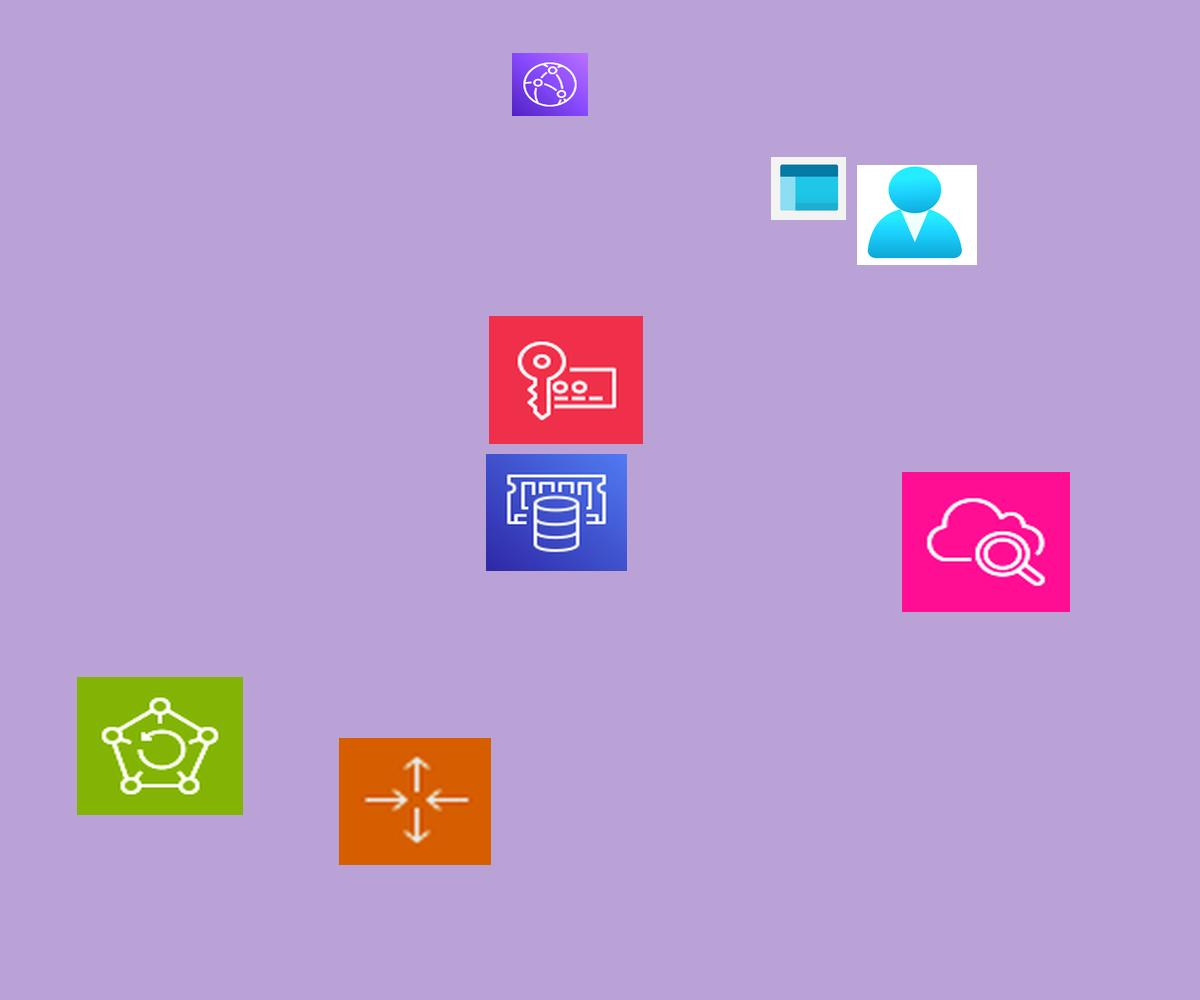AWS-Backup: (77, 677, 243, 815)
AWS-CloudFront: (512, 53, 588, 116)
AWS-CloudWatch: (902, 472, 1070, 612)
AWS-ElastiCache: (486, 454, 627, 571)
AWS-Key-Management-Service: (489, 316, 643, 444)
AWS-Scaling-group: (339, 738, 491, 865)
Azure_management-portal: (771, 157, 846, 220)
Azure_users: (857, 165, 977, 265)
